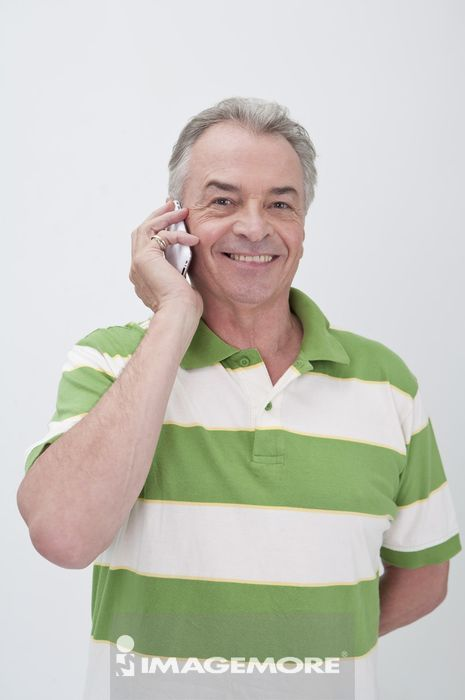phone: (164, 193, 192, 282)
talk: (128, 170, 300, 346)
